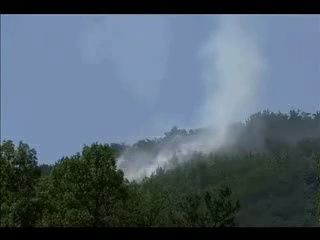smoke: (194, 14, 267, 159), (108, 129, 193, 183)
